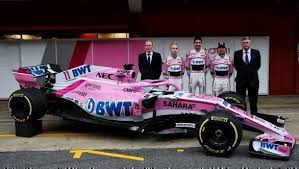f1_car: (6, 56, 297, 164)
